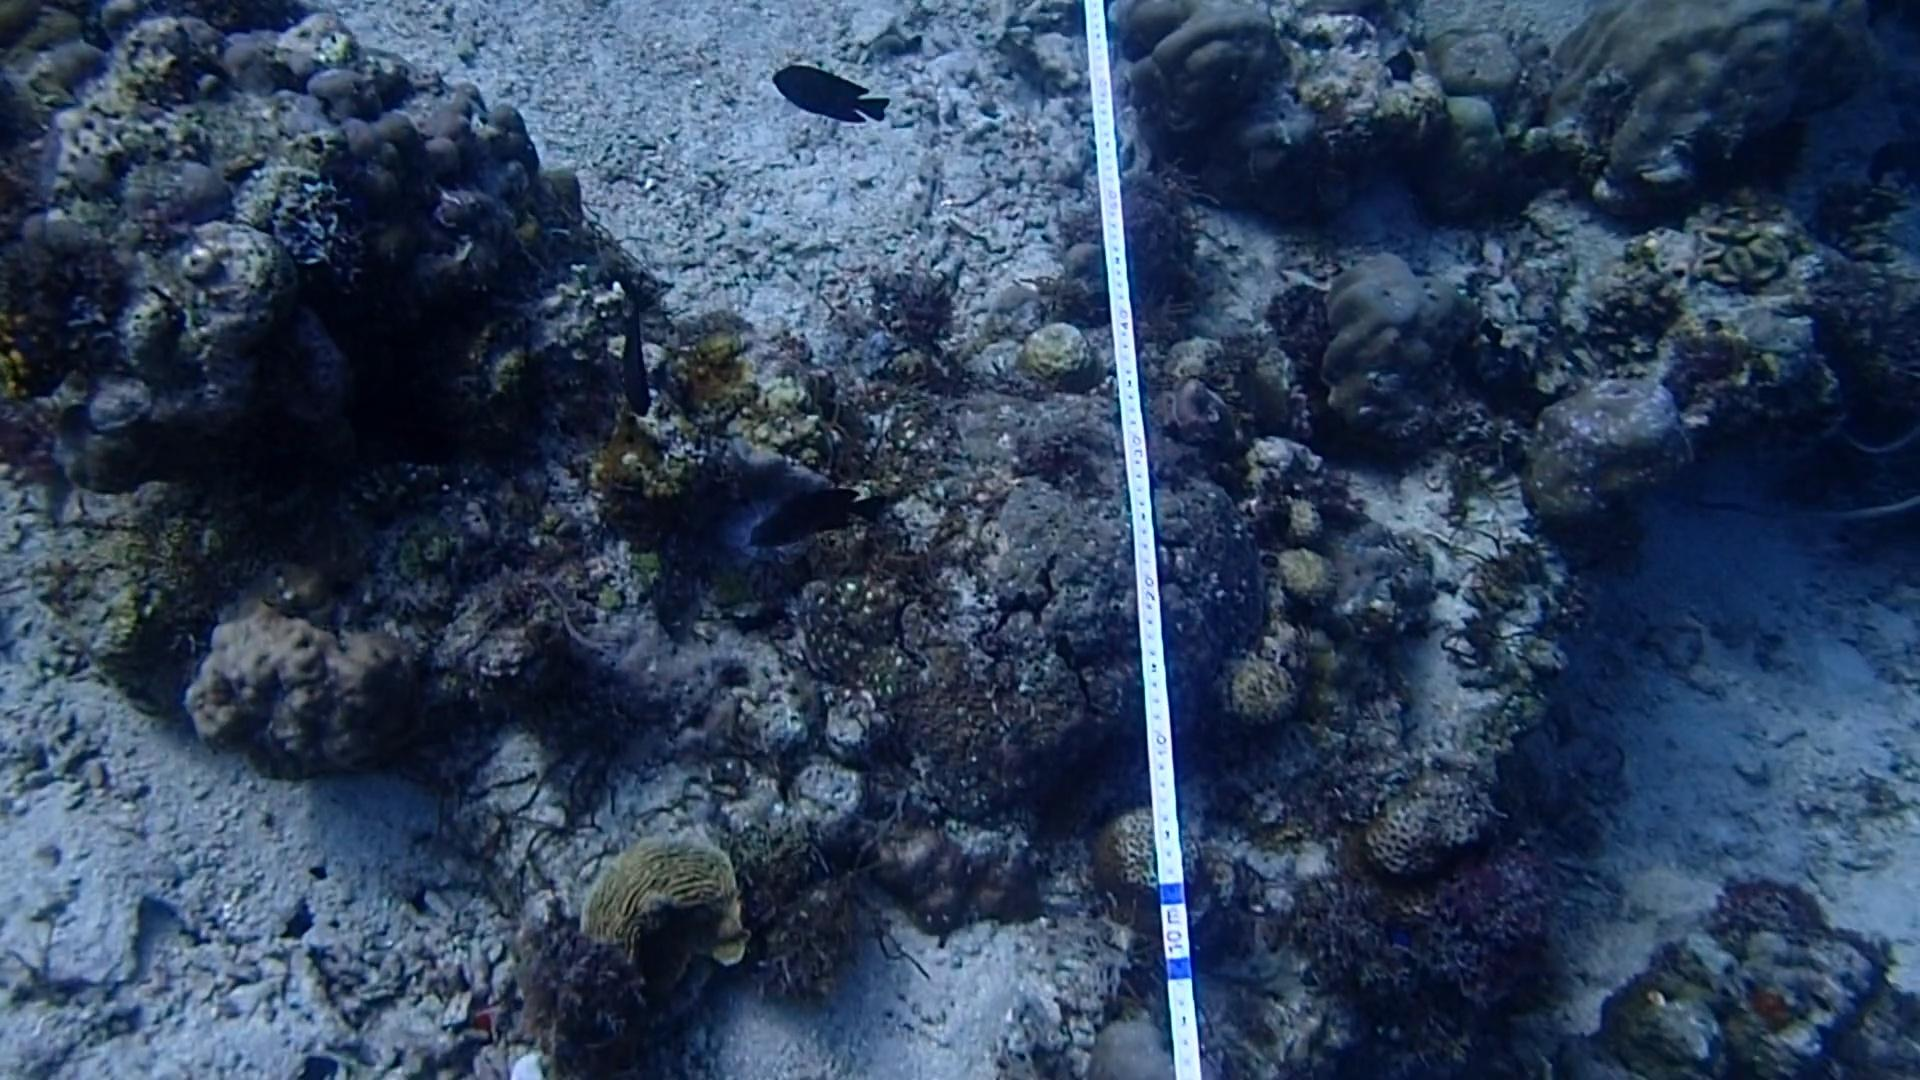Dark Fish: (736, 468, 890, 559), (761, 53, 885, 138), (603, 272, 662, 418)
